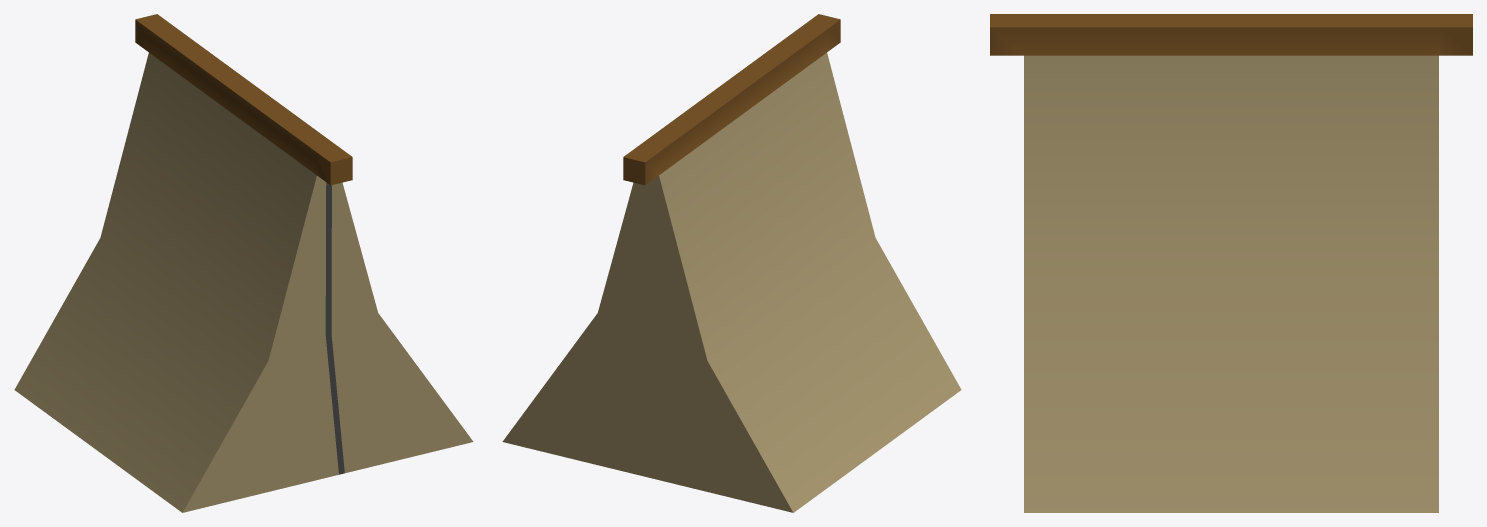
File: tent.fbx
3 renders of one model, left to right at view 1: azimuth 30°, elevation 25°; view 2: azimuth 150°, elevation 25°; view 3: azimuth 270°, elevation 25°, orthographic. The views are drawn at different scales.
Parts seen in each view (by area): view 1: Cube157; view 2: Cube157; view 3: Cube157.
Boxes of the visible parts, x1,y1,x2,y2 form: Cube157: (14, 14, 473, 512); Cube157: (502, 14, 961, 512); Cube157: (990, 14, 1472, 512).
Size of the model in its own units: 898 by 965 by 1044.
